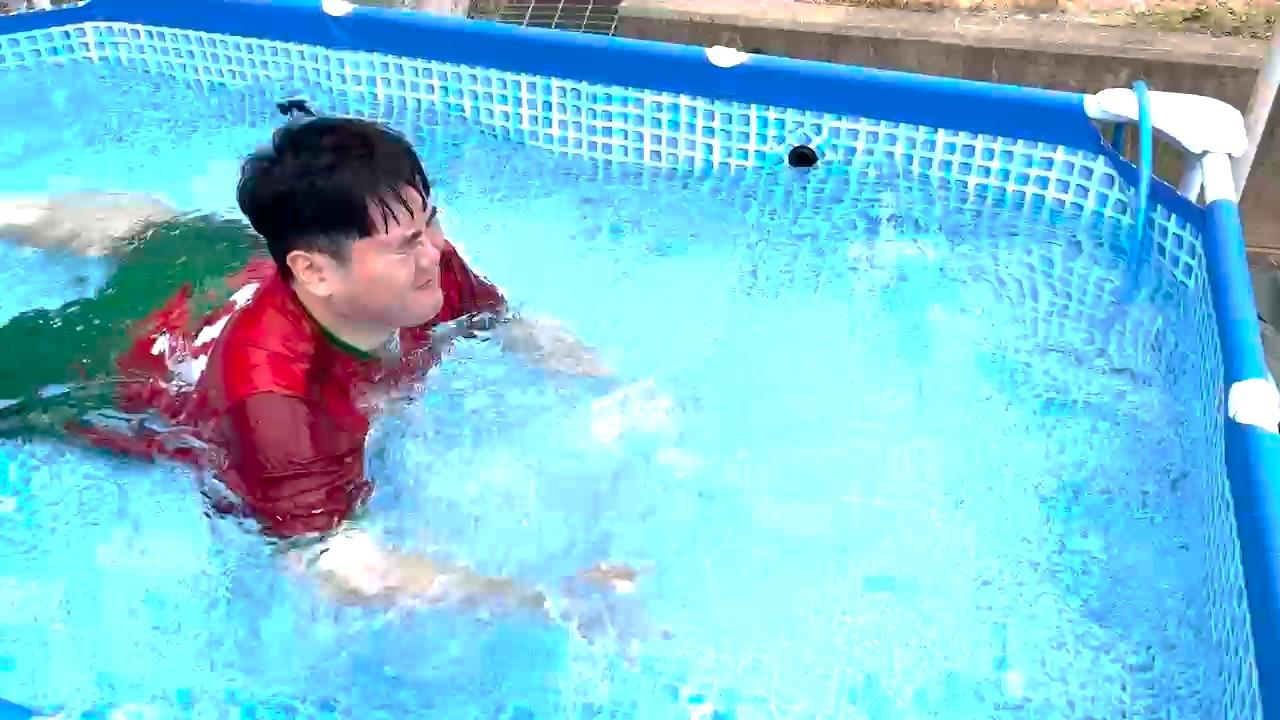Drowning: (0, 79, 722, 653)
